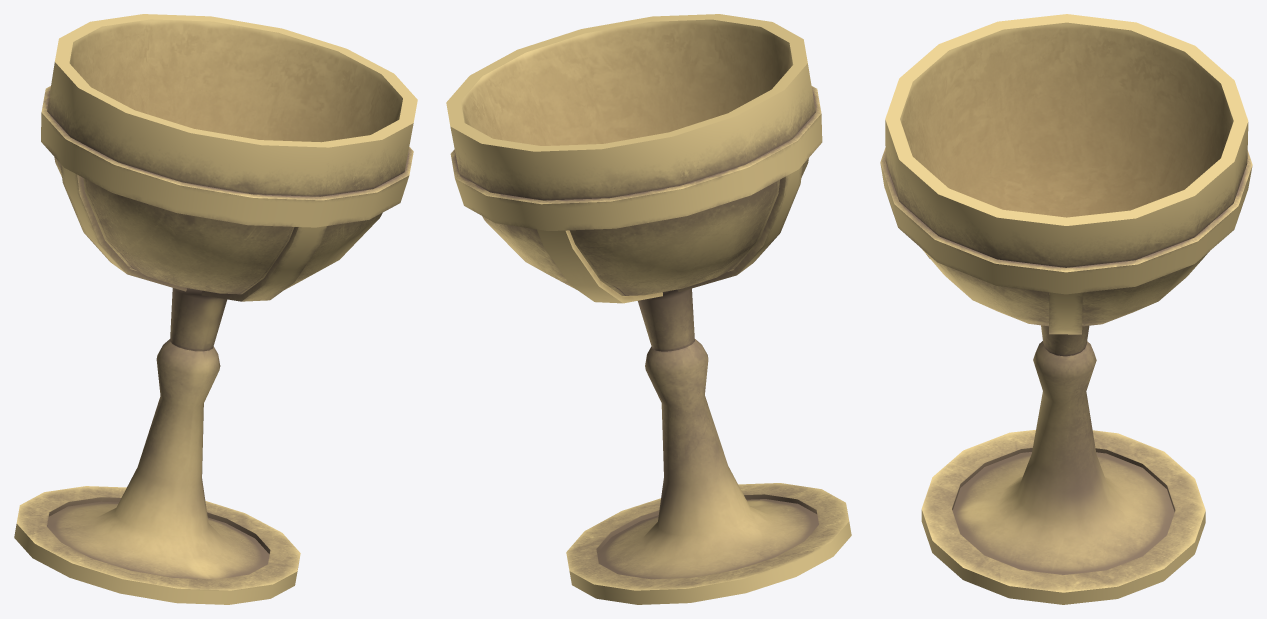
File: Goblet.fbx
3 renders of one model, left to right at view 1: azimuth 30°, elevation 25°; view 2: azimuth 150°, elevation 25°; view 3: azimuth 270°, elevation 25°, orthographic. The views are drawn at different scales.
Parts seen in each view (by area): view 1: Goblet; view 2: Goblet; view 3: Goblet.
Boxes of the visible parts, <box> form: Goblet: <box>14,14,417,604</box>; Goblet: <box>446,14,851,604</box>; Goblet: <box>880,14,1252,604</box>.
Bounding box in the file's own units: 13.65 × 15.05 × 20.05.
Materials: 1 (1 with a texture image).
